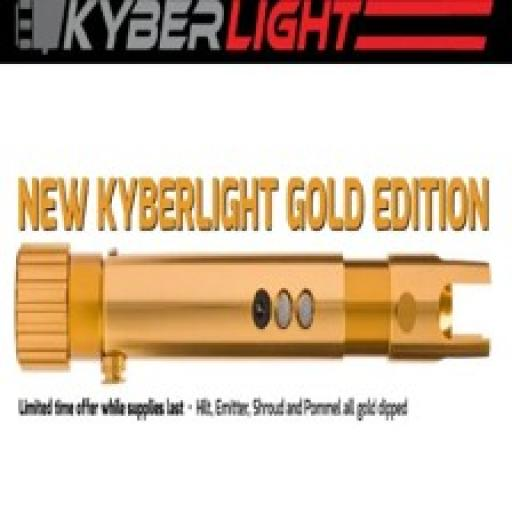lightsaber: (15, 242, 496, 395)
